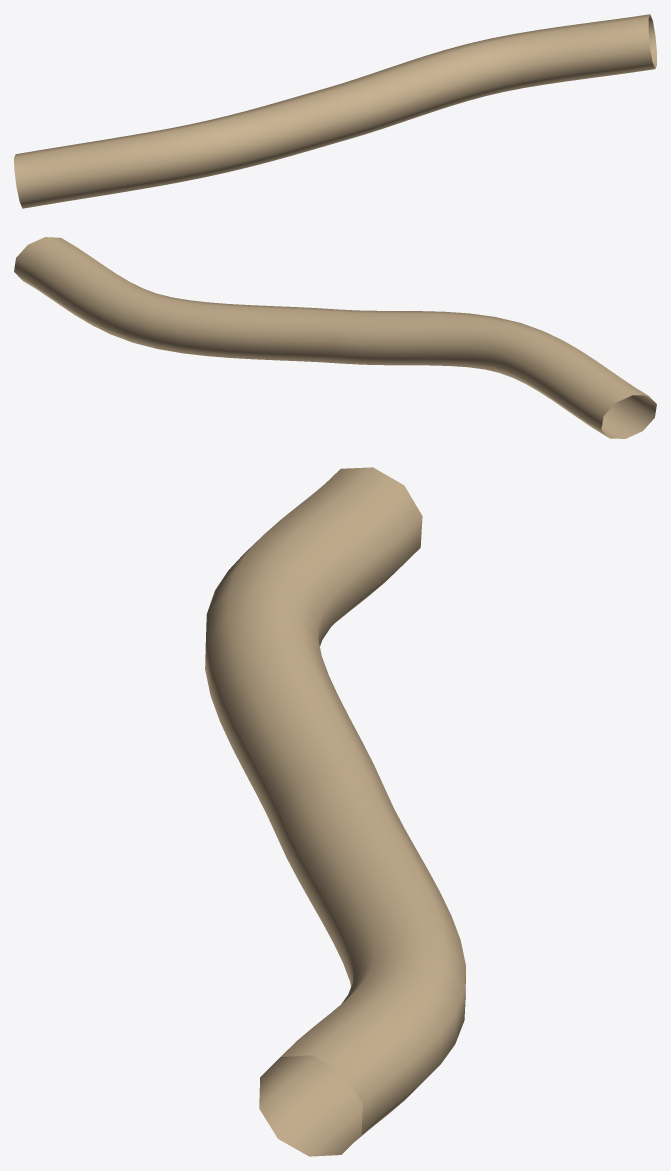
The model's file is left_clavicle.glb.
3 views of the same model, one above another, from view 1: azimuth 30°, elevation 25°; view 2: azimuth 150°, elevation 25°; view 3: azimuth 270°, elevation 25° (orthographic). The views are drawn at different scales.
Visible parts, largest first — view 1: left_clavicle:s-curve; view 2: left_clavicle:s-curve; view 3: left_clavicle:s-curve.
Boxes of the visible parts, x1=… form: left_clavicle:s-curve: x1=14, y1=14, x2=656, y2=208; left_clavicle:s-curve: x1=14, y1=237, x2=656, y2=438; left_clavicle:s-curve: x1=205, y1=467, x2=465, y2=1156.
Bounding box in the file's own units: 0.7504 × 0.0804 × 0.134.
